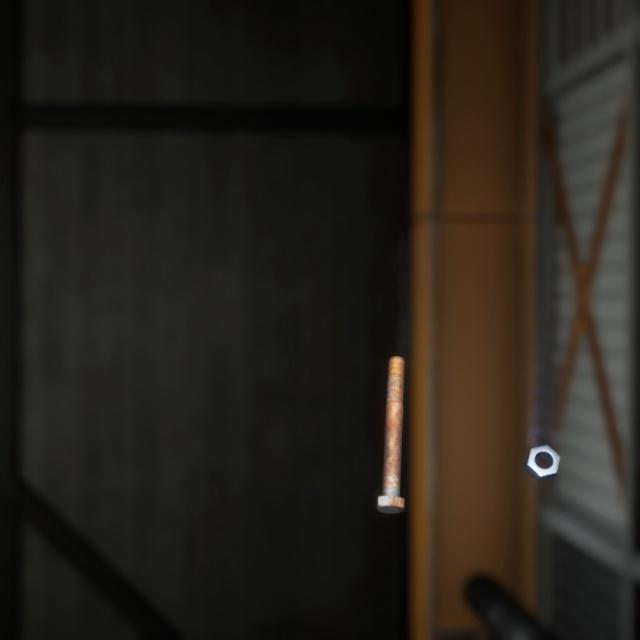bolt: (372, 333, 409, 498)
nut: (520, 419, 565, 464)
